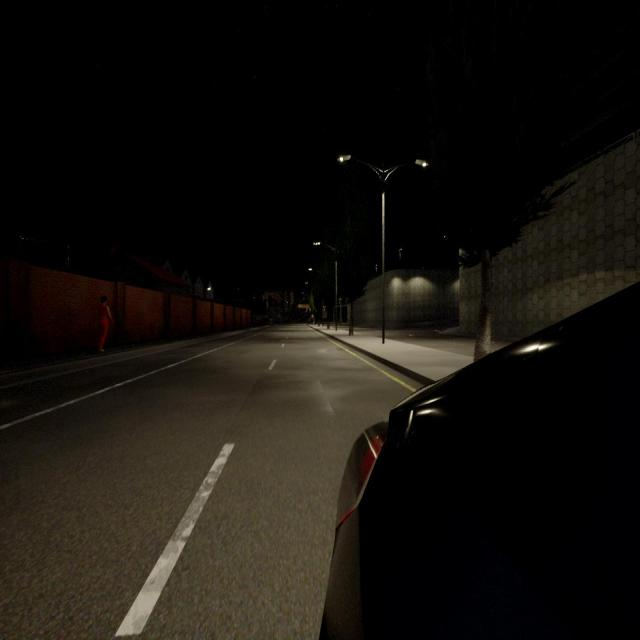Pedestrian: (98, 296, 112, 352)
Vehicle: (320, 282, 640, 638)
